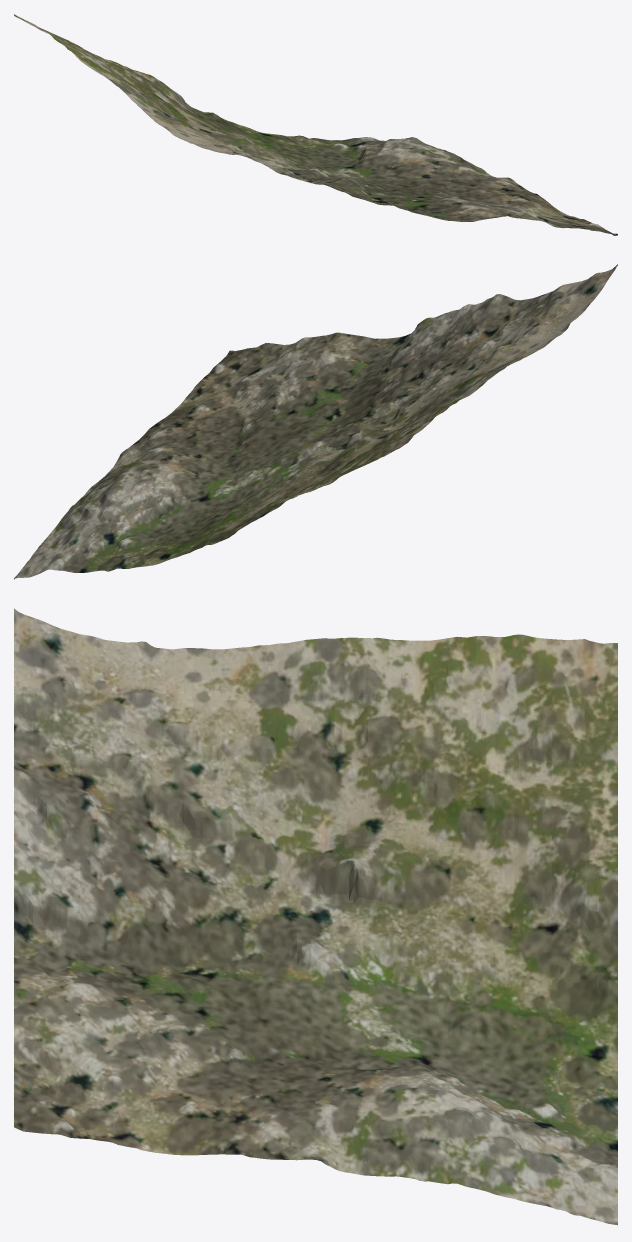
3 renders of one model, top to bottom at view 1: azimuth 30°, elevation 25°; view 2: azimuth 150°, elevation 25°; view 3: azimuth 270°, elevation 25°, orthographic. The views are drawn at different scales.
Bounding box in the file's own units: 250 × 156 × 241.
Materials: 1 (1 with a texture image).
